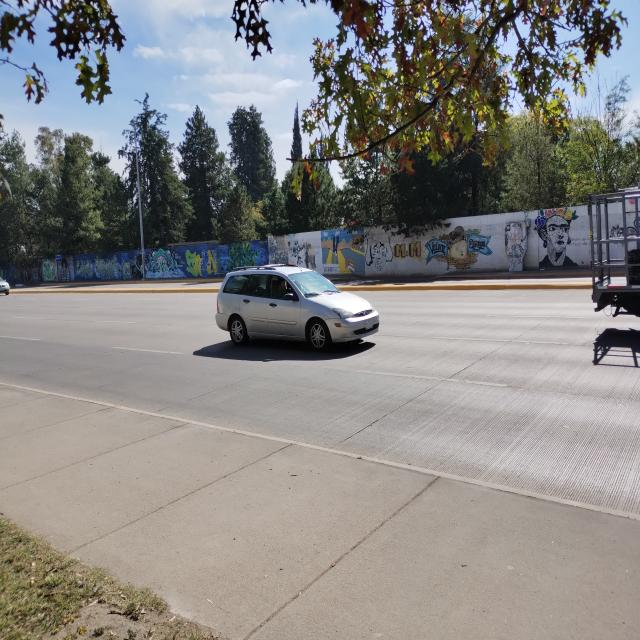Auto: (215, 262, 384, 350)
